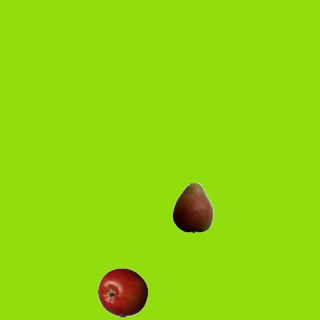Apple Braeburn: (97, 267, 147, 317)
Pear Forelle: (167, 182, 217, 232)
